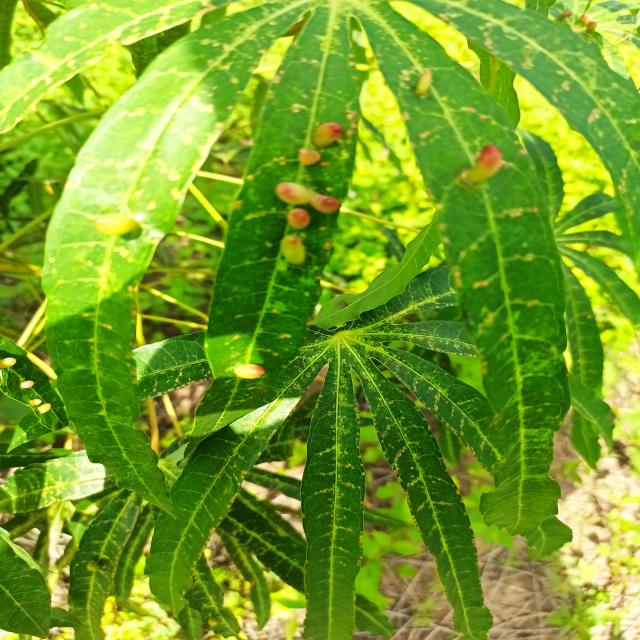Mosca: (267, 167, 343, 282), (76, 199, 162, 265), (6, 355, 66, 425), (294, 106, 360, 166), (454, 136, 516, 194), (219, 341, 276, 398), (401, 62, 441, 100), (560, 10, 615, 36)
